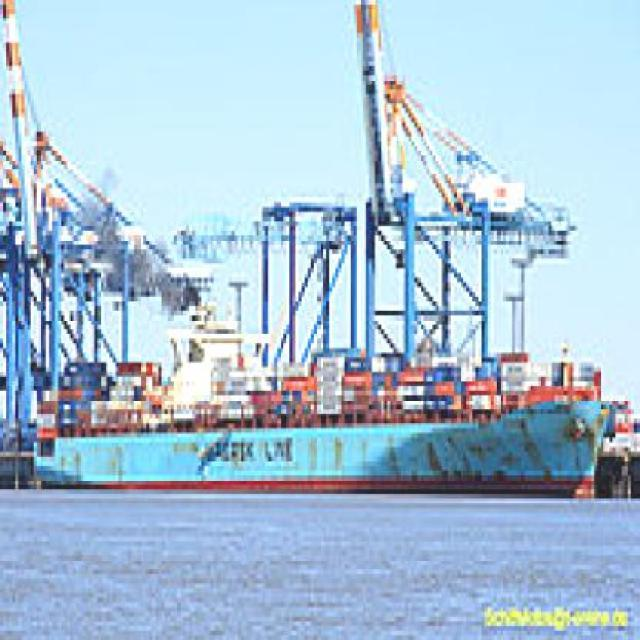Container Ship: (18, 303, 606, 505)
